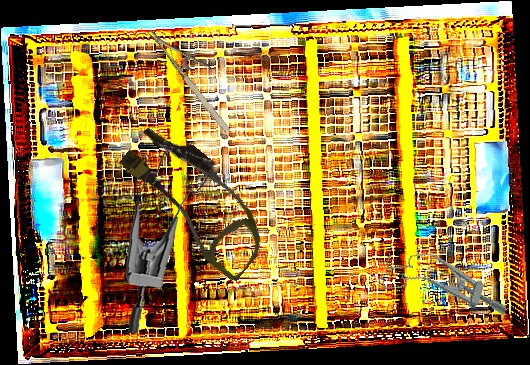Cannula: (106, 115, 286, 284)
Needle Holder: (147, 14, 248, 136)
Speculum: (119, 142, 220, 334), (376, 241, 516, 325)
